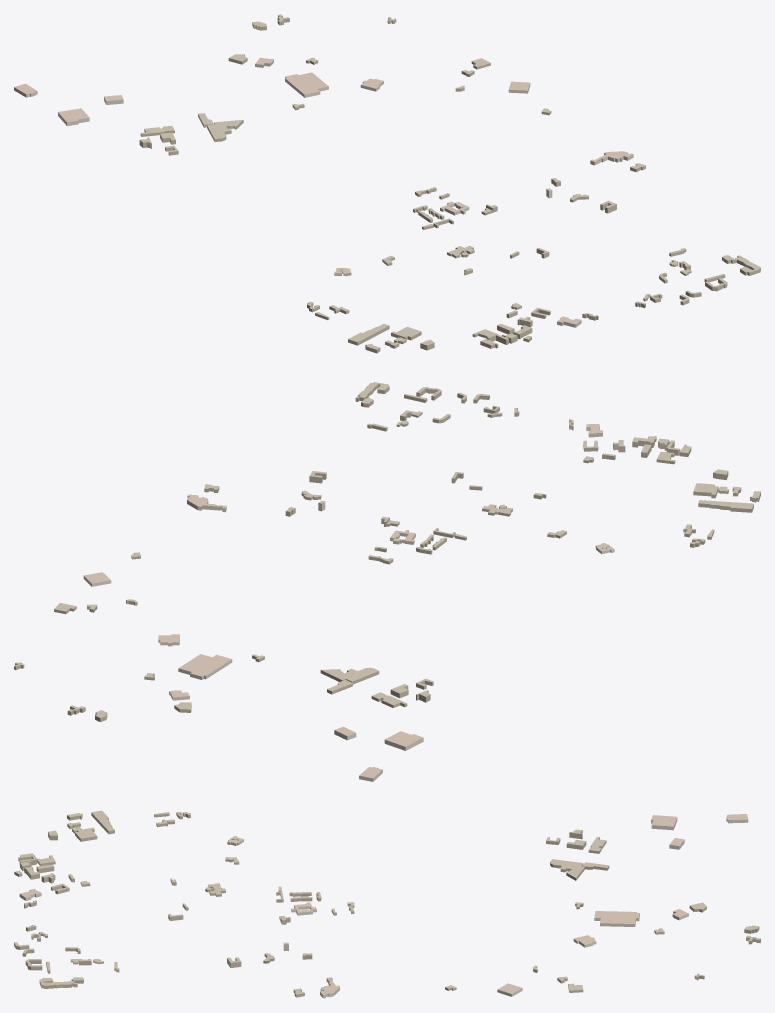
The picture shows the model from 3 angles, top to bottom: view 1: azimuth 30°, elevation 25°; view 2: azimuth 150°, elevation 25°; view 3: azimuth 270°, elevation 25°; orthographic projection. The views are drawn at different scales.
Bounding box in the file's own units: 1414 × 28.57 × 2406.
